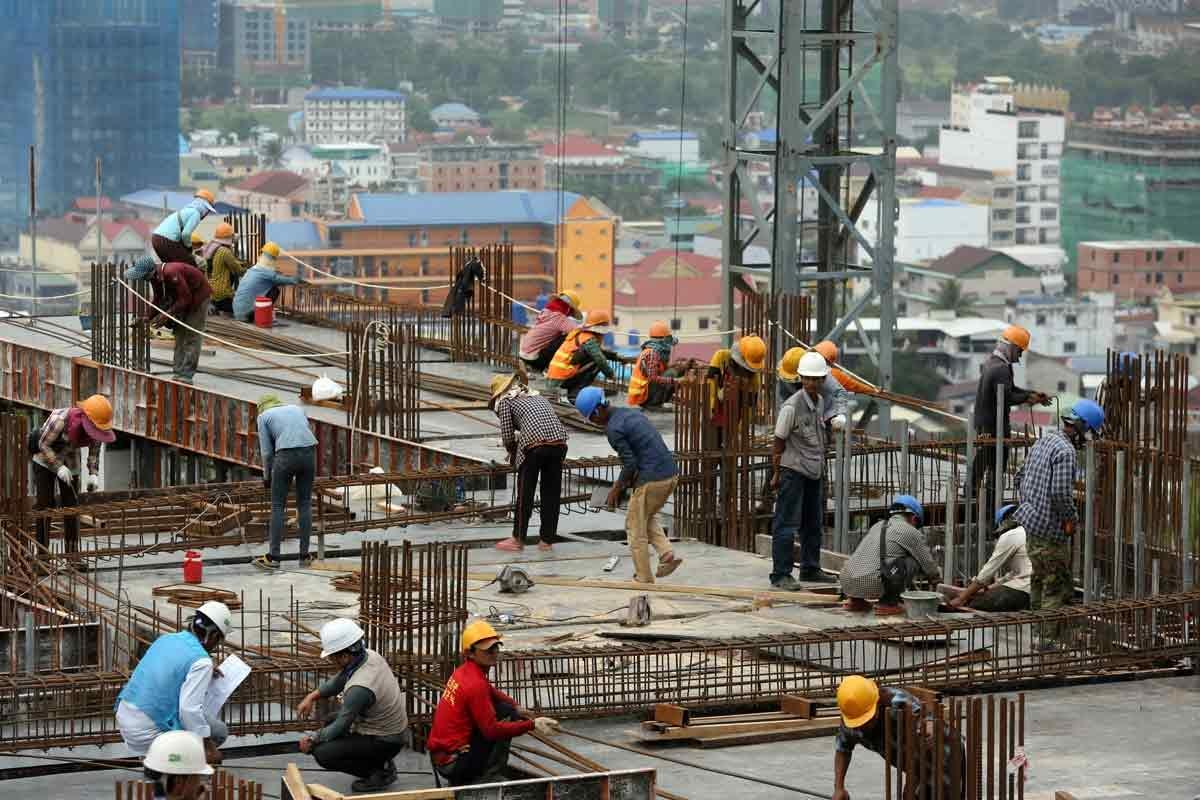helmet: (834, 671, 886, 725), (317, 617, 362, 658), (81, 390, 118, 433), (198, 600, 234, 641), (454, 621, 503, 651), (734, 334, 769, 370), (1069, 398, 1106, 427), (779, 343, 806, 382), (308, 377, 346, 403), (797, 351, 828, 379), (576, 385, 607, 412), (999, 325, 1032, 350), (558, 287, 584, 316), (891, 493, 925, 513), (584, 309, 609, 332), (648, 322, 675, 340), (215, 220, 238, 239), (261, 242, 283, 260), (193, 184, 213, 202)
no_wear: (849, 520, 923, 603), (339, 661, 402, 745), (607, 407, 671, 486), (1024, 439, 1076, 536), (438, 664, 489, 752), (781, 393, 831, 477), (508, 398, 564, 450), (258, 406, 316, 454), (31, 408, 73, 474), (155, 264, 207, 316), (990, 529, 1032, 587), (979, 358, 1012, 430), (208, 241, 237, 304), (521, 307, 557, 357), (241, 266, 267, 316)
wear: (549, 328, 589, 380), (632, 351, 662, 401)
